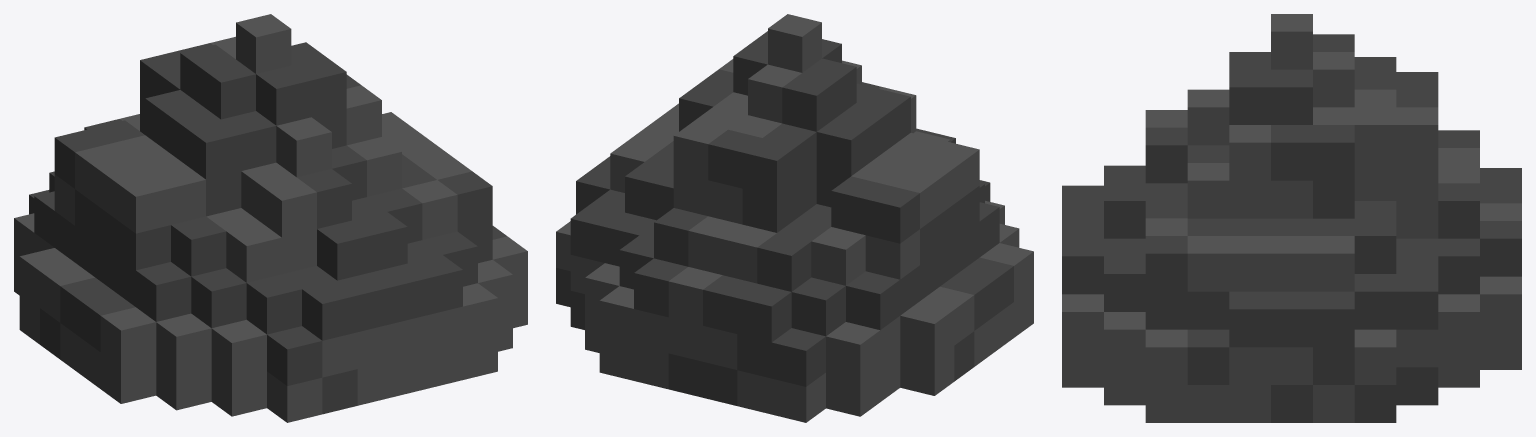
Rendered from Rock_scnd.obj.
The picture shows the model from 3 angles, left to right: view 1: azimuth 30°, elevation 25°; view 2: azimuth 150°, elevation 25°; view 3: azimuth 270°, elevation 25°; orthographic projection. The views are drawn at different scales.
Visible parts, largest first — view 1: Rock_scnd; view 2: Rock_scnd; view 3: Rock_scnd.
Boxes of the visible parts, x1,y1,x2,y2 form: Rock_scnd: [14, 14, 527, 422]; Rock_scnd: [556, 14, 1033, 422]; Rock_scnd: [1062, 14, 1521, 422].
Size of the model in its own units: 11 by 8 by 11.
Materials: 1 (1 with a texture image).
